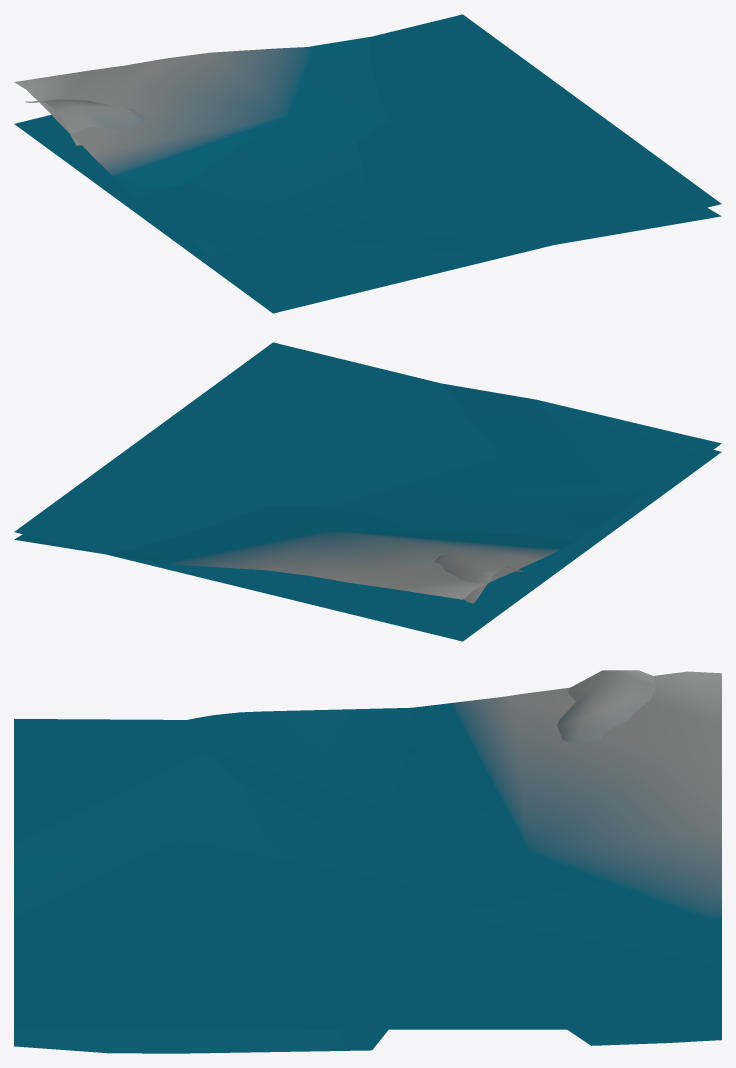
3 views of the same model, one above another, from view 1: azimuth 30°, elevation 25°; view 2: azimuth 150°, elevation 25°; view 3: azimuth 270°, elevation 25° (orthographic). The views are drawn at different scales.
Parts seen in each view (by area): view 1: G:\FFXIV-MapTools\exports\s1f3\bg\ffxiv\sea_s1\fld\s1f3\bgpl (×6); view 2: G:\FFXIV-MapTools\exports\s1f3\bg\ffxiv\sea_s1\fld\s1f3\bgpl (×6); view 3: G:\FFXIV-MapTools\exports\s1f3\bg\ffxiv\sea_s1\fld\s1f3\bgpl (×6).
Boxes of the visible parts, box(x1,y1,x2,y2) form: G:\FFXIV-MapTools\exports\s1f3\bg\ffxiv\sea_s1\fld\s1f3\bgpl (×6): box(14, 14, 721, 313); G:\FFXIV-MapTools\exports\s1f3\bg\ffxiv\sea_s1\fld\s1f3\bgpl (×6): box(14, 342, 721, 641); G:\FFXIV-MapTools\exports\s1f3\bg\ffxiv\sea_s1\fld\s1f3\bgpl (×6): box(14, 670, 721, 1053).
Bounding box in the file's own units: 128 × 16.78 × 128.
